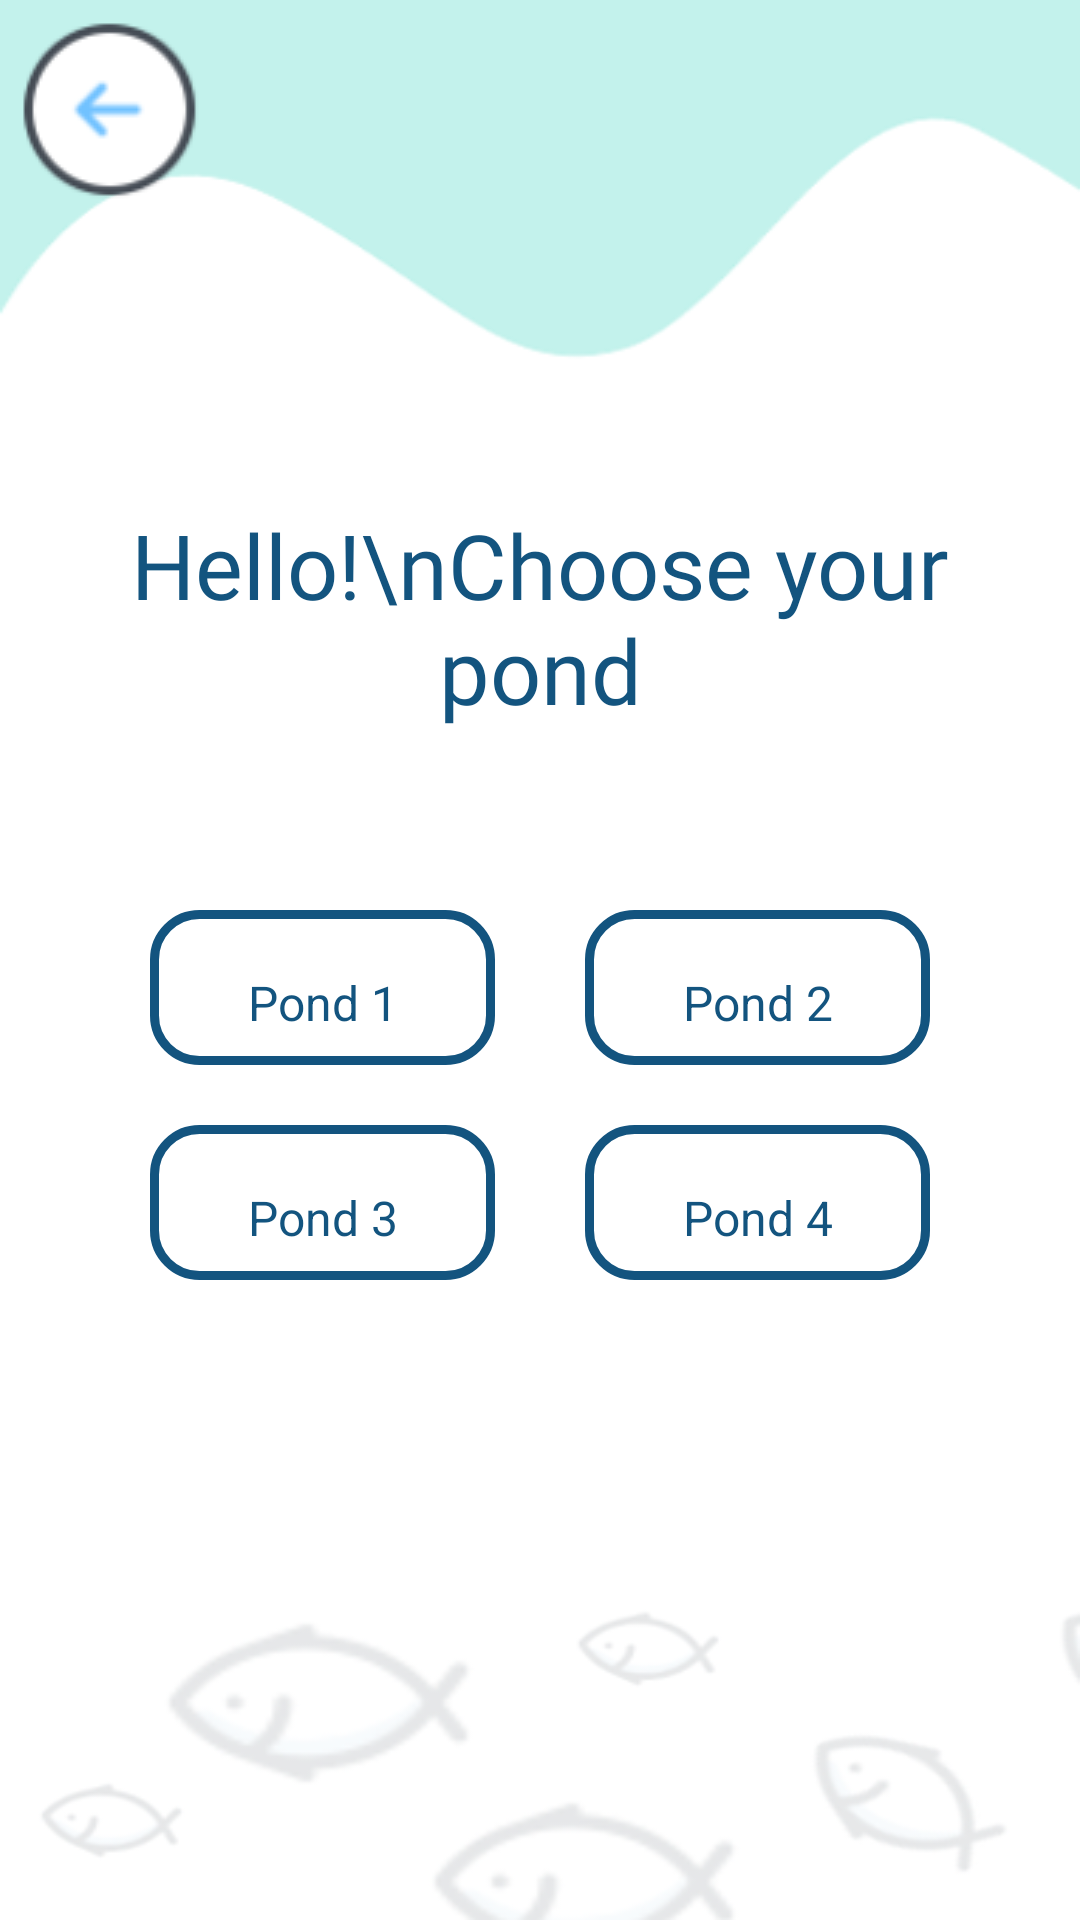

Icon click points for this 1080 × 1920 phone screenshot, format (x,y):
back: (113,113)
